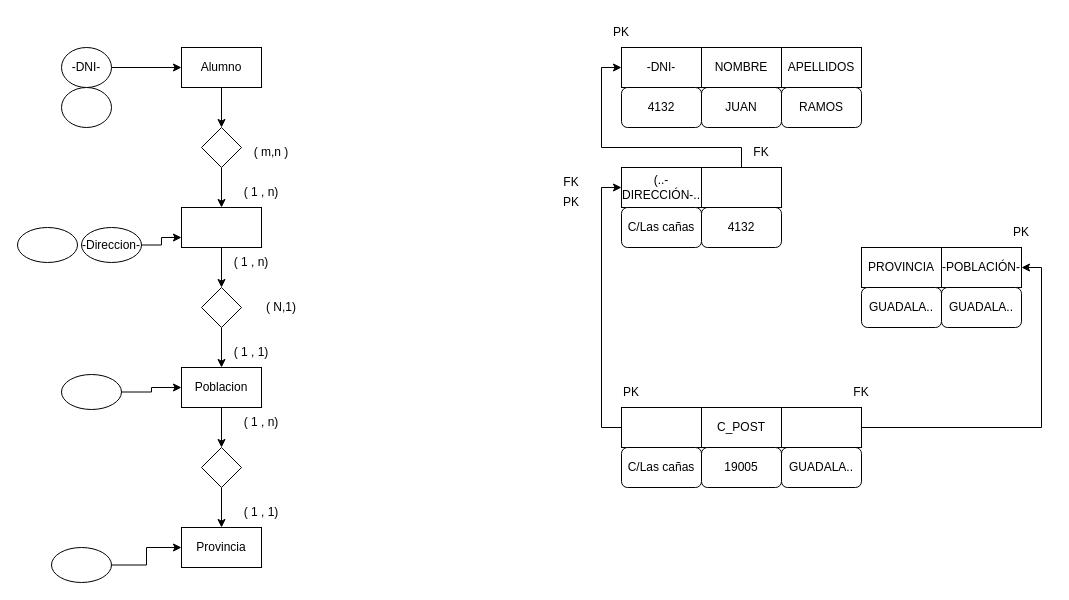
This 1069x600 diagram has some shape labels left out. Here are the shapes that lost their labels. From the top down, the centre of each, then its label:
point 86,107: datos personales
point 221,147: VIVE
point 741,187: ..-DNI-..)
point 47,244: CP
point 221,227: Casa
point 221,307: Se encuentra
point 91,392: Cod.Pob
point 661,427: -DIRECCIÓN-
point 821,427: ..-POBLACIÓN-..
point 221,467: Pertenece
point 81,564: Cod.Pro
